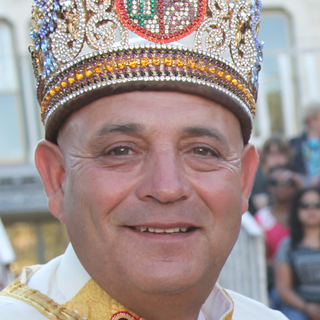eye: (96, 141, 143, 163), (178, 142, 222, 161)
